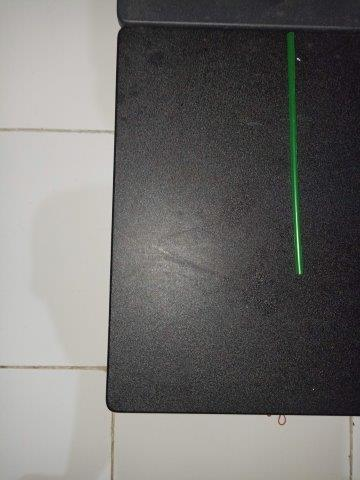sedotan: (287, 32, 304, 274)
